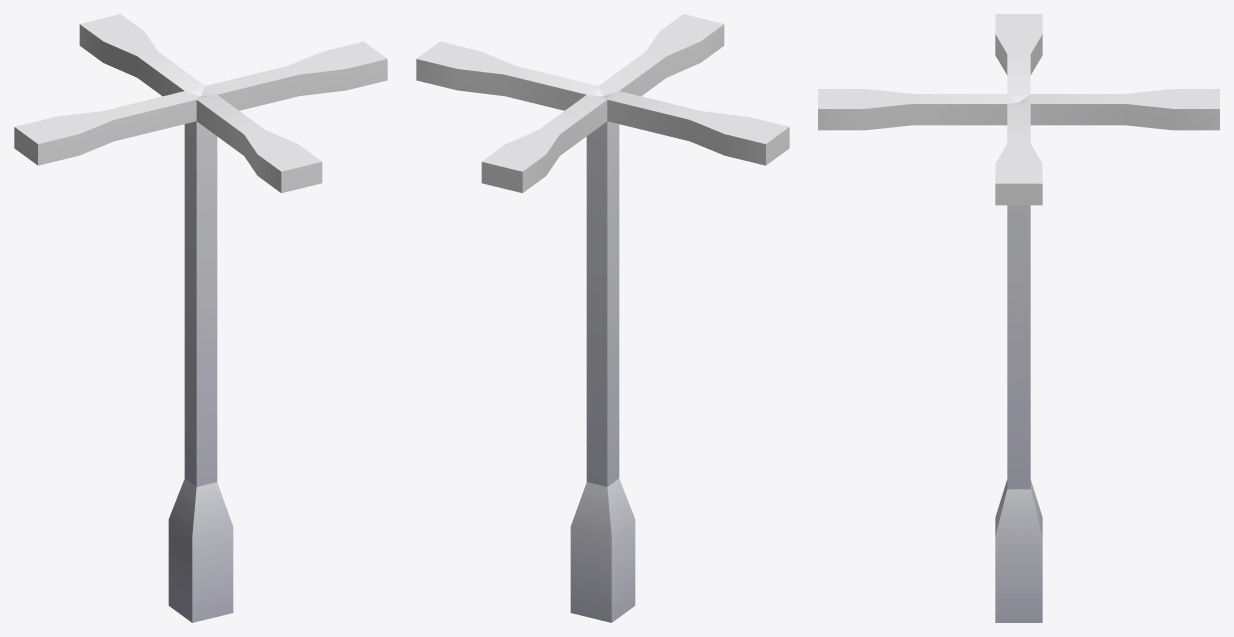
Rendered from light-square-cross.draco.glb.
3 views of the same model, side by side, from view 1: azimuth 30°, elevation 25°; view 2: azimuth 150°, elevation 25°; view 3: azimuth 270°, elevation 25° (orthographic).
Parts seen in each view (by area): view 1: light-square-cross; view 2: light-square-cross; view 3: light-square-cross.
Boxes of the visible parts, x1=… form: light-square-cross: x1=14, y1=14, x2=387, y2=622; light-square-cross: x1=416, y1=14, x2=789, y2=622; light-square-cross: x1=818, y1=14, x2=1219, y2=622.
Size of the model in its own units: 0.425 by 0.6 by 0.425.
1 material, 1 textured.
